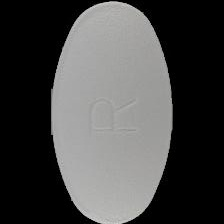63629-1326: (0, 0, 224, 224)
